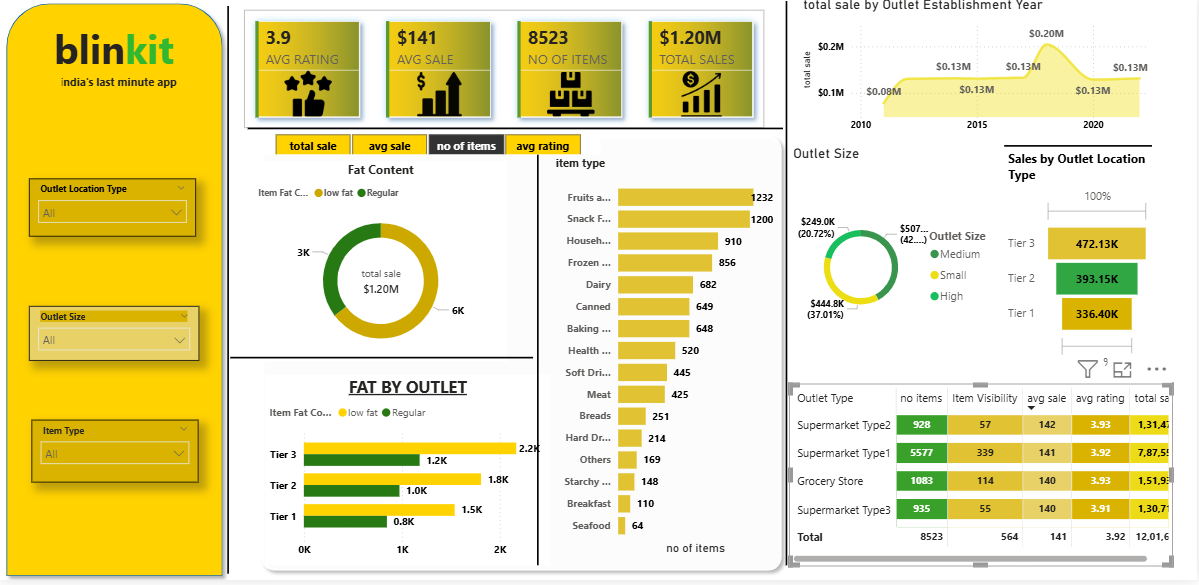

What the dashboard file says about the page in this screenshot:
{"tool":"powerbi","page":{"name":"Page 1","canvas":[1452,707],"ordinal":0},"visuals":[{"type":"shape","box":[0,0,280,712],"z":0},{"type":"textbox","box":[51.9,25.9,175.3,92.6],"z":1000},{"type":"textbox","box":[69.1,88.9,161.7,29.6],"z":2000},{"type":"cardVisual","fields":{"Data":["BlinkIT Grocery Data.avg rating","BlinkIT Grocery Data.avg sale","BlinkIT Grocery Data.no of items","BlinkIT Grocery Data.total sale"]},"box":[280,0,667,177],"z":3000},{"type":"shape","box":[308.6,160.5,648.1,544.4],"z":4000},{"type":"donutChart","title":" Fat Content","fields":{"Y":["BlinkIT Grocery Data.no of items"],"Category":["BlinkIT Grocery Data.Item Fat Content"]},"box":[308.6,200,307.4,243.2],"z":5000},{"type":"slicer","fields":{"Values":["metrics.metrics"]},"box":[308.6,160.5,419.8,30.9],"z":6000},{"type":"cardVisual","fields":{"Data":["BlinkIT Grocery Data.total sale"]},"box":[419,322,87,45],"z":7000},{"type":"clusteredBarChart","title":"FAT BY OUTLET","fields":{"Y":["BlinkIT Grocery Data.no of items"],"Category":["BlinkIT Grocery Data.Outlet Location Type"],"Series":["BlinkIT Grocery Data.Item Fat Content"]},"box":[323.5,459.3,345.7,230.9],"z":8000},{"type":"shape","box":[280,433,367,10],"z":9000},{"type":"shape","box":[646.9,192.6,12.3,497.5],"z":10000},{"type":"shape","box":[271,12,13,688],"z":11000},{"type":"barChart","title":"item type","fields":{"Y":["BlinkIT Grocery Data.no of items"],"Category":["BlinkIT Grocery Data.Item Type"]},"box":[669,193,274,490],"z":12000},{"type":"shape","box":[951,6,6,684],"z":13000},{"type":"shape","box":[302,154,649,12],"z":14000},{"type":"shape","box":[1009,291,50,30],"z":15000},{"type":"lineChart","fields":{"Category":["BlinkIT Grocery Data.Outlet Establishment Year"],"Y":["BlinkIT Grocery Data.total sale"]},"box":[969,0,431,174],"z":16000},{"type":"shape","box":[957,166,440,30],"z":17000},{"type":"donutChart","title":" Outlet Size","fields":{"Y":["BlinkIT Grocery Data.total sale"],"Category":["BlinkIT Grocery Data.Outlet Size"]},"box":[957,181,261,278],"z":18000},{"type":"funnel","title":"Sales by Outlet Location Type","fields":{"Y":["Sum(BlinkIT Grocery Data.Sales)"],"Category":["BlinkIT Grocery Data.Outlet Location Type"]},"box":[1218,186,182,273],"z":19000},{"type":"pivotTable","fields":{"Rows":["BlinkIT Grocery Data.Outlet Type"],"Values":["BlinkIT Grocery Data.no of items","Sum(BlinkIT Grocery Data.Item Visibility)","BlinkIT Grocery Data.avg sale","BlinkIT Grocery Data.avg rating","BlinkIT Grocery Data.total sale"]},"box":[957,469,465,222],"z":20000},{"type":"slicer","fields":{"Values":["BlinkIT Grocery Data.Outlet Location Type"]},"box":[37,221,202,70],"z":21000},{"type":"slicer","fields":{"Values":["BlinkIT Grocery Data.Outlet Size"]},"box":[37,375,206,66],"z":22000},{"type":"slicer","fields":{"Values":["BlinkIT Grocery Data.Item Type"]},"box":[39,513,202,76],"z":22001}]}

Visuals, with their boxes in screenshot pixels (x1, y1, x2, y2), scaled from the page's 1452x707 canvas onto the 1199x585 screenshot:
shape: 0/0/231/584
textbox: 43/21/188/98
textbox: 57/74/191/98
cardVisual - BlinkIT Grocery Data.avg rating x BlinkIT Grocery Data.avg sale: 231/0/782/146
shape: 255/133/790/583
" Fat Content" donutChart: 255/165/509/367
slicer - metrics.metrics: 255/133/601/158
cardVisual - BlinkIT Grocery Data.total sale: 346/266/418/304
"FAT BY OUTLET" clusteredBarChart: 267/380/553/571
shape: 231/358/534/367
shape: 534/159/544/571
shape: 224/10/235/579
"item type" barChart: 552/160/779/565
shape: 785/5/790/571
shape: 249/127/785/137
shape: 833/241/874/266
lineChart - BlinkIT Grocery Data.Outlet Establishment Year x BlinkIT Grocery Data.total sale: 800/0/1156/144
shape: 790/137/1154/162
" Outlet Size" donutChart: 790/150/1006/380
"Sales by Outlet Location Type" funnel: 1006/154/1156/380
pivotTable - BlinkIT Grocery Data.Outlet Type x BlinkIT Grocery Data.no of items: 790/388/1174/572
slicer - BlinkIT Grocery Data.Outlet Location Type: 31/183/197/241
slicer - BlinkIT Grocery Data.Outlet Size: 31/310/201/365
slicer - BlinkIT Grocery Data.Item Type: 32/424/199/487
